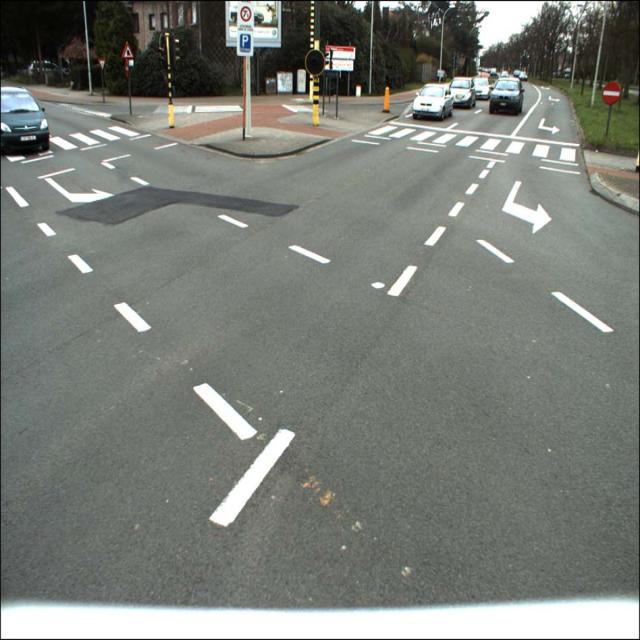girisyok: (602, 81, 622, 105)
